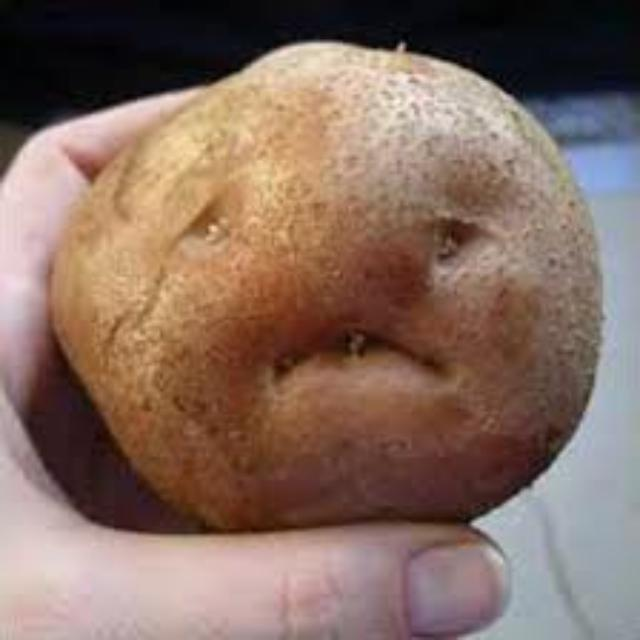Damaged potato: (59, 12, 598, 554)
